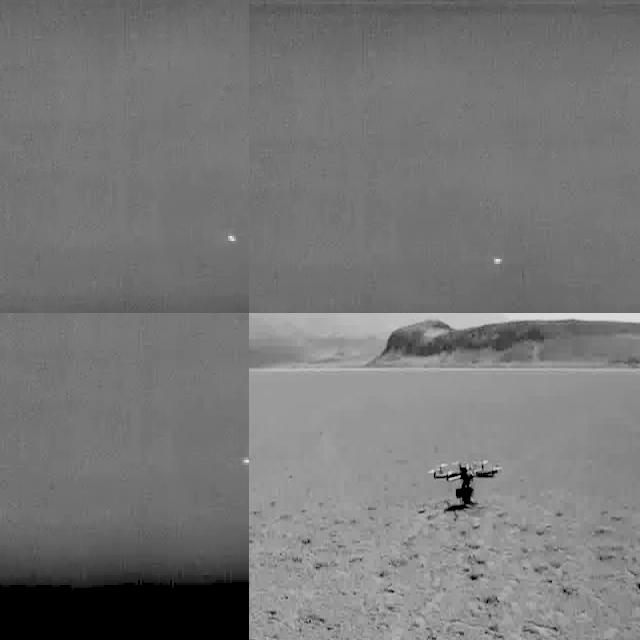1: (488, 249, 516, 279), (223, 227, 249, 255), (238, 449, 249, 479)
drone: (431, 458, 502, 507)
